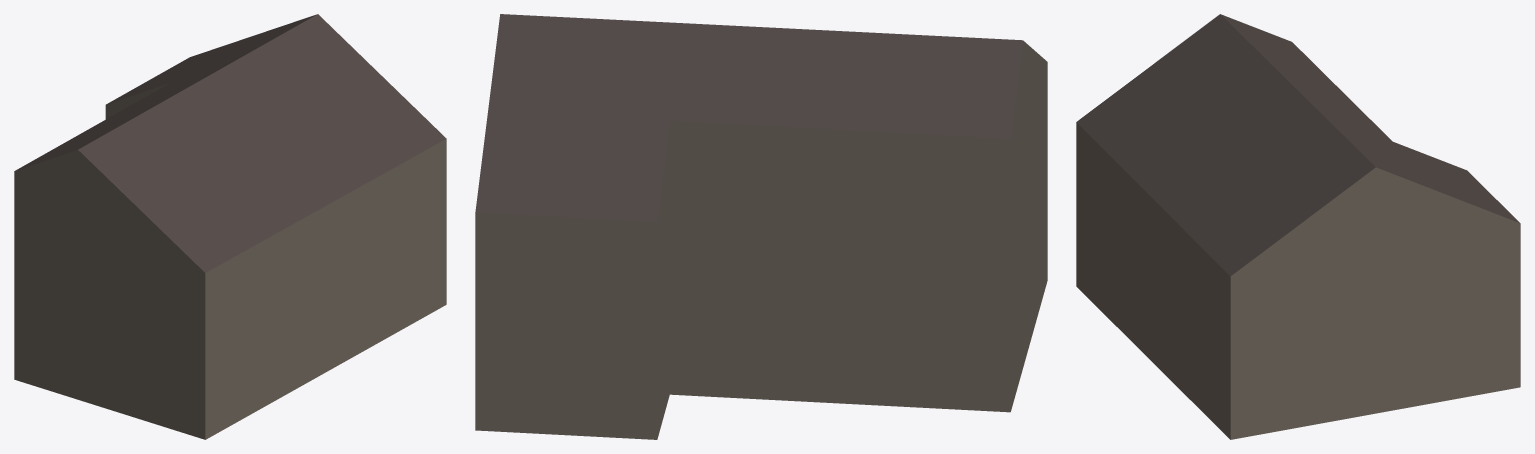
3 views of the same model, side by side, from view 1: azimuth 30°, elevation 25°; view 2: azimuth 150°, elevation 25°; view 3: azimuth 270°, elevation 25° (orthographic). The views are drawn at different scales.
Visible parts, largest first — view 1: HP-w1198664287; view 2: HP-w1198664287; view 3: HP-w1198664287.
Boxes of the visible parts, x1=… form: HP-w1198664287: x1=14, y1=14, x2=446, y2=439; HP-w1198664287: x1=475, y1=14, x2=1047, y2=439; HP-w1198664287: x1=1076, y1=14, x2=1520, y2=439.
Bounding box in the file's own units: 15.18 × 9.04 × 14.79.
